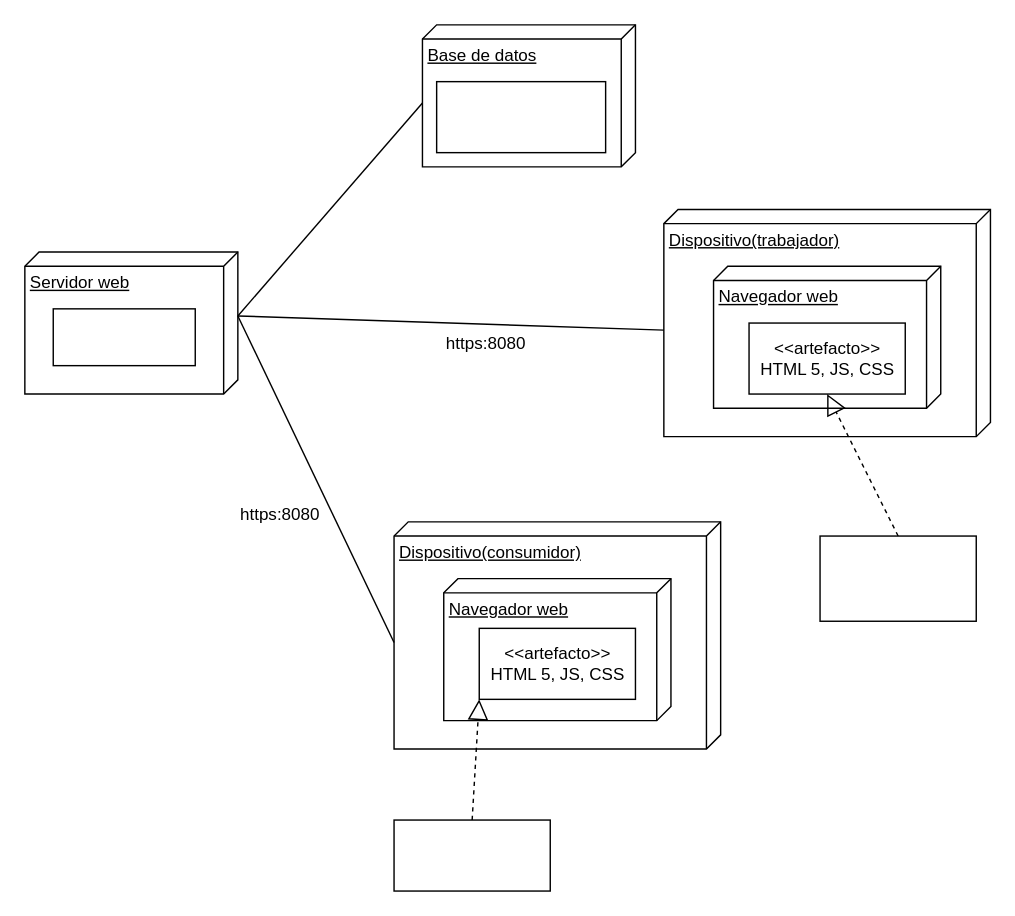
The diagram is 1015 pixels wide and 916 high, and some of its shapes have lost their labels. The centre of each missing label's shape, as x and y in pixels:
"<<artefacto>> BD con MySQL" goes at pixel 520 116.
"<<artefacto>> Sitio web" goes at pixel 123 336.
"Controlador Consumidor.php" goes at pixel 471 855.
"Controlador Trabajador.php" goes at pixel 897 578.
